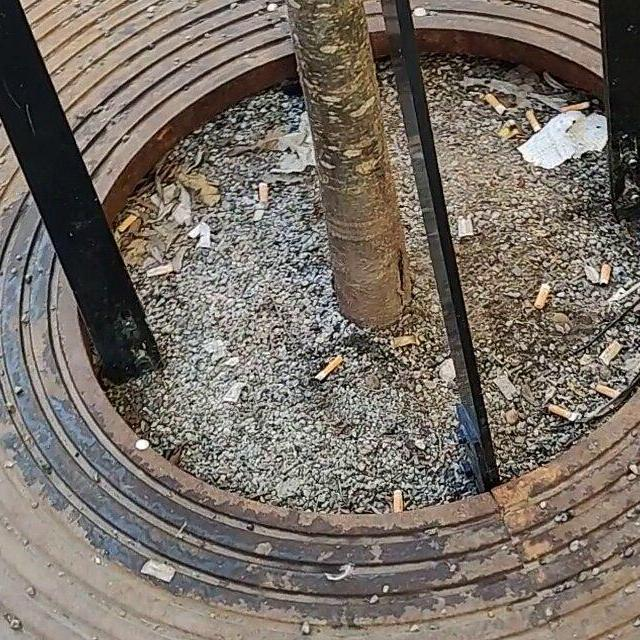Cigarette Butt: (539, 400, 584, 422), (313, 354, 341, 384), (599, 339, 620, 370), (599, 383, 625, 405), (388, 486, 407, 516), (112, 211, 137, 233), (559, 99, 592, 114), (485, 92, 506, 112), (146, 263, 172, 279), (392, 329, 410, 350), (256, 184, 270, 210), (527, 108, 543, 128), (600, 262, 612, 285), (535, 286, 547, 309)
